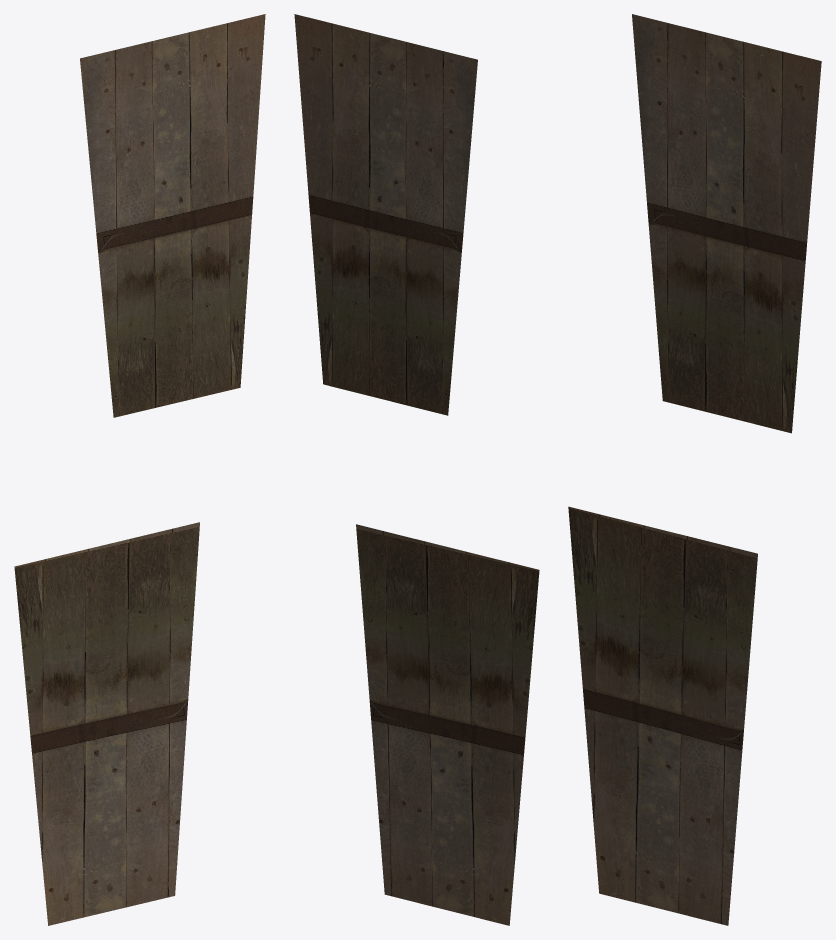
The model's file is OU_AR_House_03_Door_D.fbx.
The picture shows the model from 3 angles, left to right: view 1: azimuth 30°, elevation 25°; view 2: azimuth 150°, elevation 25°; view 3: azimuth 330°, elevation 25°; orthographic projection. The views are drawn at different scales.
Parts seen in each view (by area): view 1: Line386; view 2: Line386; view 3: Line386.
Boxes of the visible parts, box(x1,y1,x2,y2) form: Line386: box(14, 14, 265, 925); Line386: box(294, 14, 539, 925); Line386: box(568, 14, 821, 925).
Size of the model in its own units: 156 by 515 by 5.15.
Materials: 1 (1 with a texture image).
